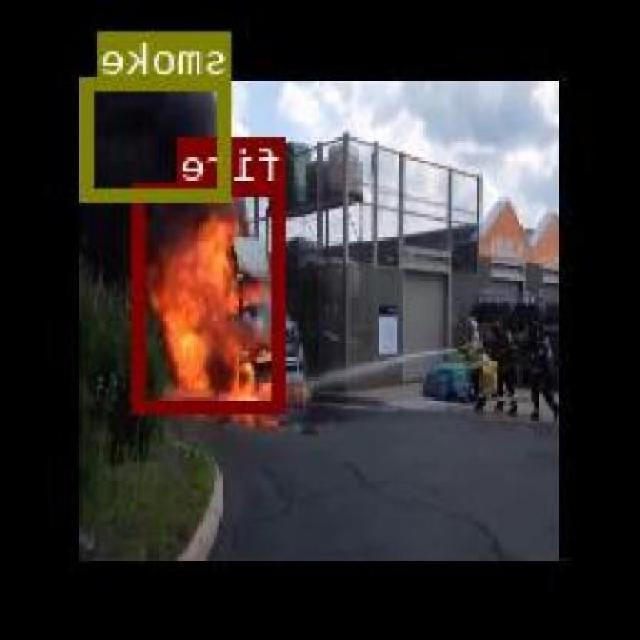Fire: (135, 182, 288, 410)
Smoke: (85, 76, 233, 199)
